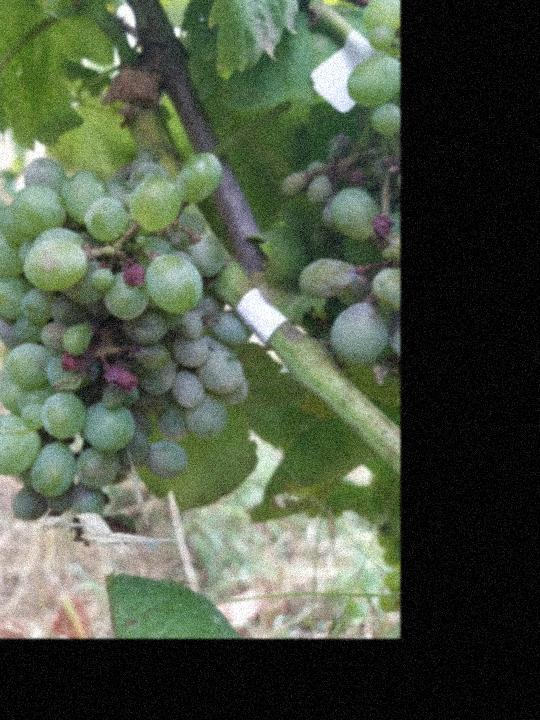grape: (0, 149, 253, 526)
